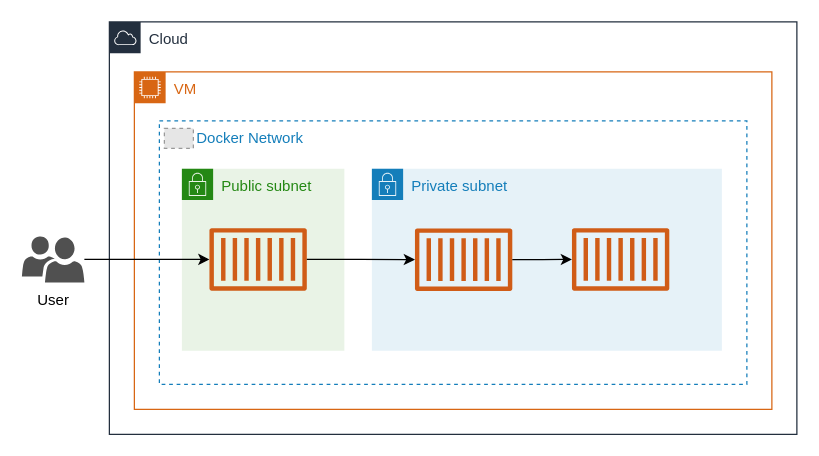
Image size: 819x456. Some labels were removed from this diagram. Grey dashed boxes stand in for pictures. The shapes that lost their labels are listed below. From the top down, each one's centre as x and y in pixels, then its label:
At point 257,259: "Nginx EXPOSE 80".
At point 463,259: "App (NodeJS)".
At point 620,259: "Database (MySQL)".
